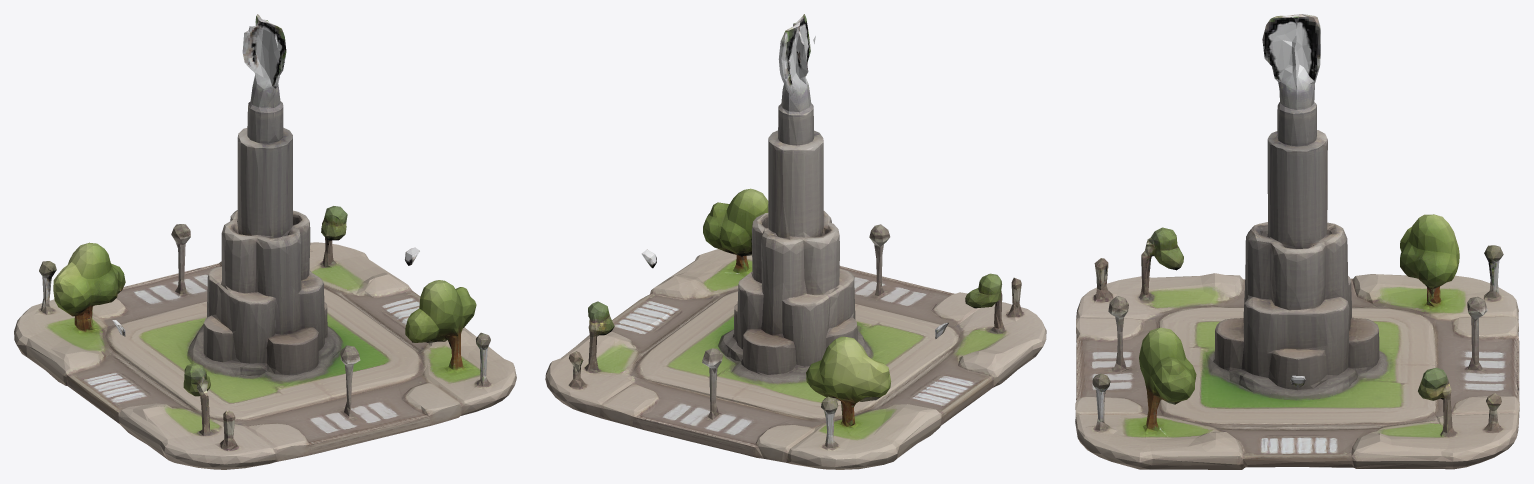
The model's file is burjKhalifa.glb.
The picture shows the model from 3 angles, left to right: view 1: azimuth 30°, elevation 25°; view 2: azimuth 150°, elevation 25°; view 3: azimuth 270°, elevation 25°; orthographic projection. The views are drawn at different scales.
Parts seen in each view (by area): view 1: world; view 2: world; view 3: world.
Boxes of the visible parts, x1,y1,x2,y2 form: world: (14, 14, 516, 469); world: (545, 14, 1046, 469); world: (1075, 14, 1519, 469).
Bounding box in the file's own units: 0.4807 × 0.4877 × 0.4973.
1 material, 1 textured.
